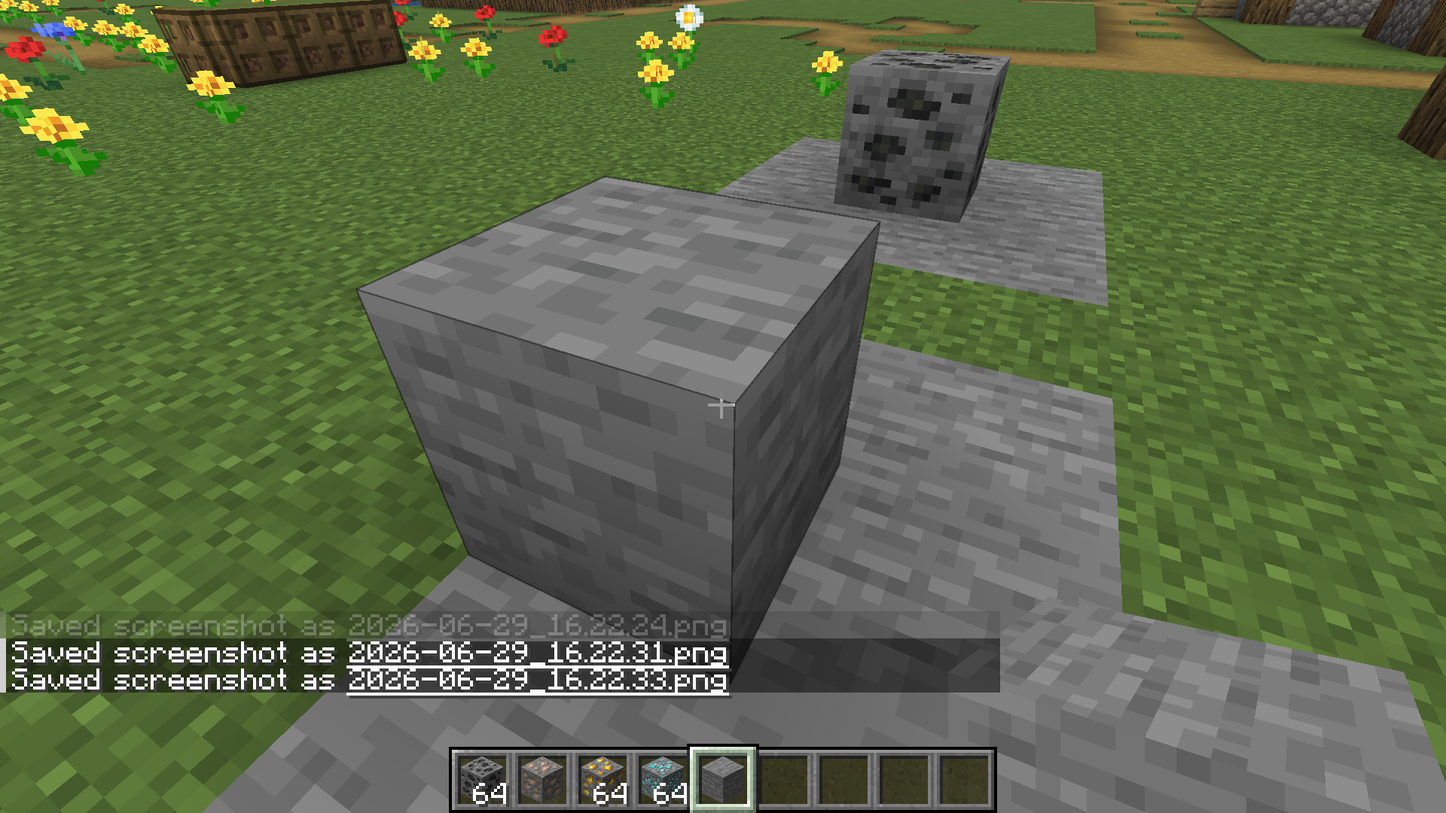coal ore: (836, 62, 997, 219)
stone: (360, 172, 877, 624)
